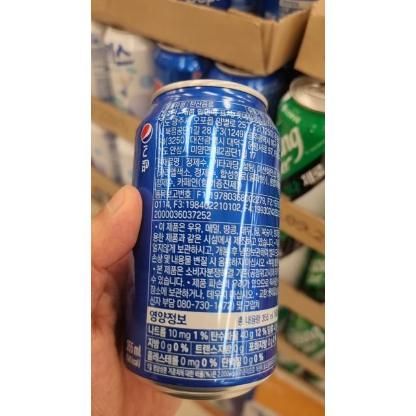Can: (122, 78, 280, 400)
